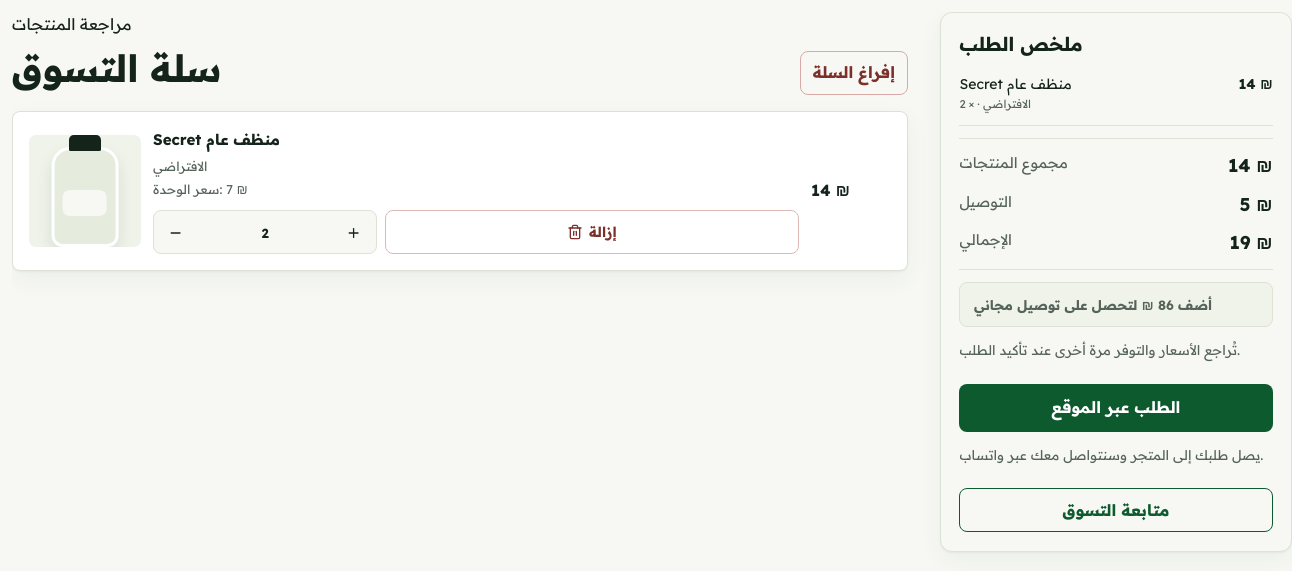
Scenario: cart page › resolves authoritative prices, updates quantities, and removes a line
Check: the element named "مجموع منظف عام Secret 14 ₪" is shown, box [811,180,850,200]
Check: the element named "مجموع المنتجات 14 ₪" is shown, box [1228,151,1273,181]
Click the button named "زيادة كمية منظف عام Secret". click: click(354, 233)
box: [332,211,376,255]
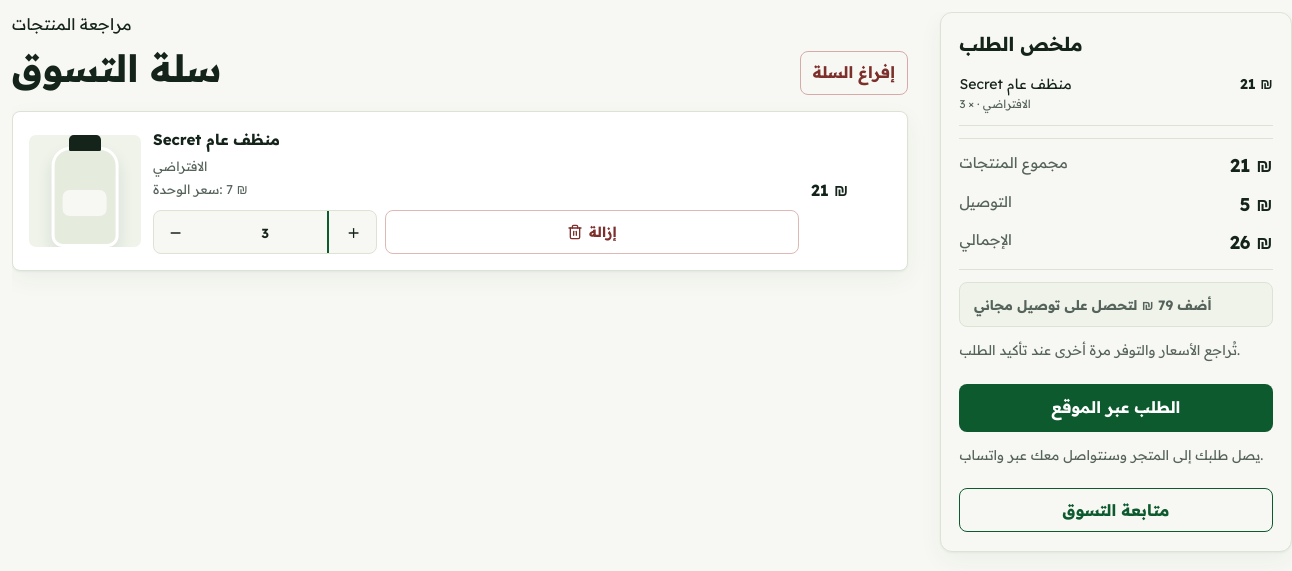
Check: the element named "مجموع المنتجات 21 ₪" is shown, box [1230,151,1273,181]
Click the button with aria-label "إزالة منظف عام Secret من السلة". click: click(592, 232)
box: [385,210,799,254]
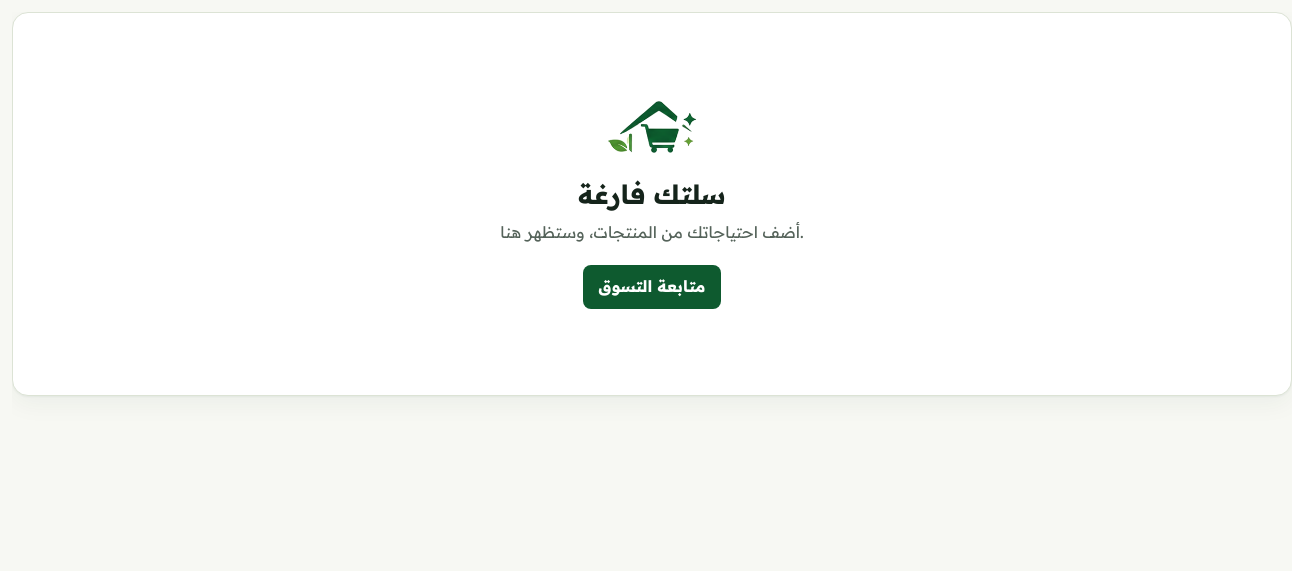
Check: the heading "سلتك فارغة" is shown, box [578,176,726,214]
